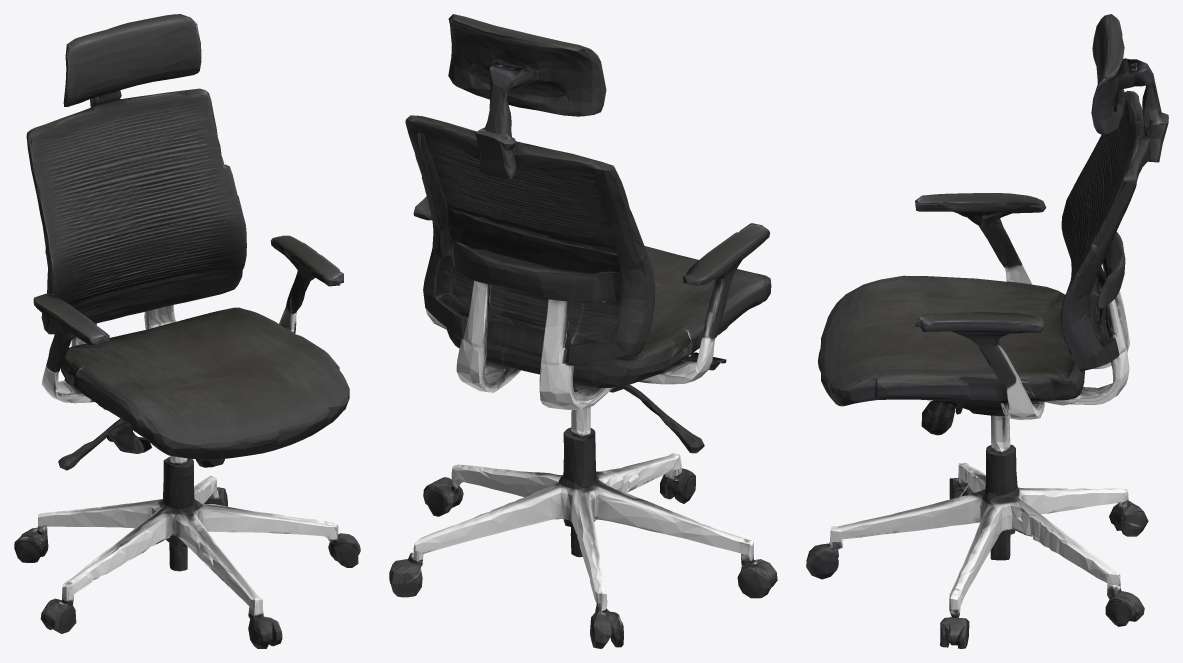
Rendered from 사무실_의자__0524065423_texture.fbx.
The picture shows the model from 3 angles, left to right: view 1: azimuth 30°, elevation 25°; view 2: azimuth 150°, elevation 25°; view 3: azimuth 270°, elevation 25°; orthographic projection. The views are drawn at different scales.
Parts seen in each view (by area): view 1: temp; view 2: temp; view 3: temp.
Boxes of the visible parts, <box> form: temp: <box>14,14,360,648</box>; temp: <box>389,14,777,648</box>; temp: <box>806,14,1168,648</box>.
Size of the model in its own units: 127 by 201 by 124.
Materials: 1 (1 with a texture image).
